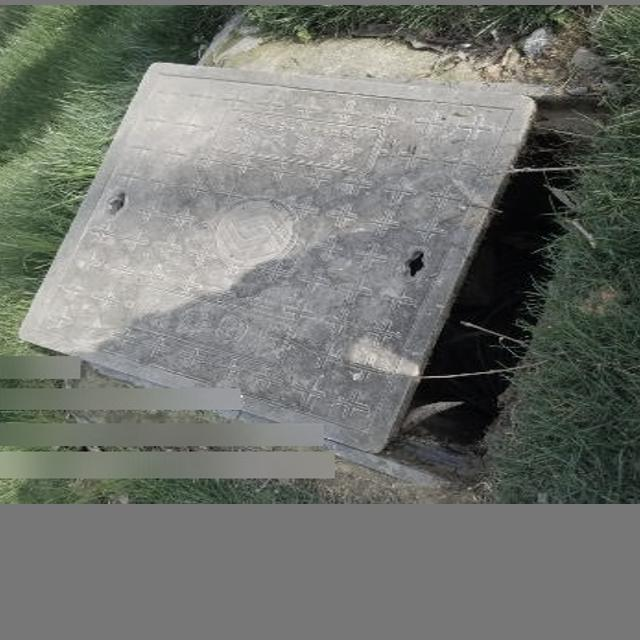uncovered: (19, 62, 604, 487)
